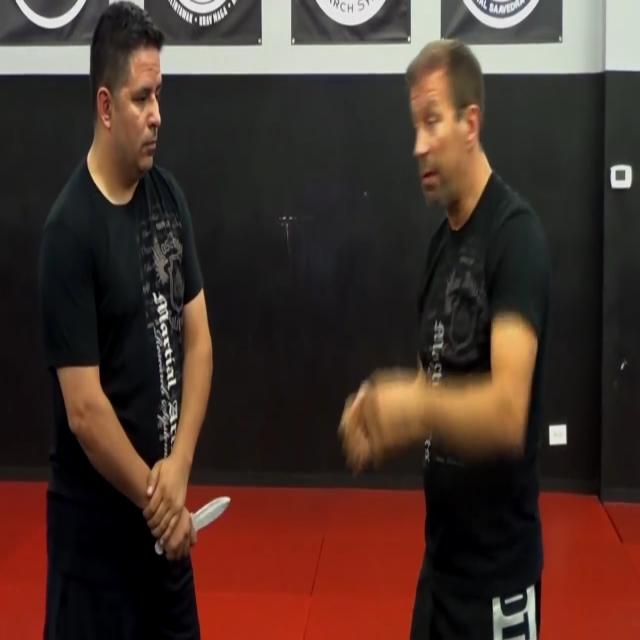knife: (189, 497, 235, 539)
